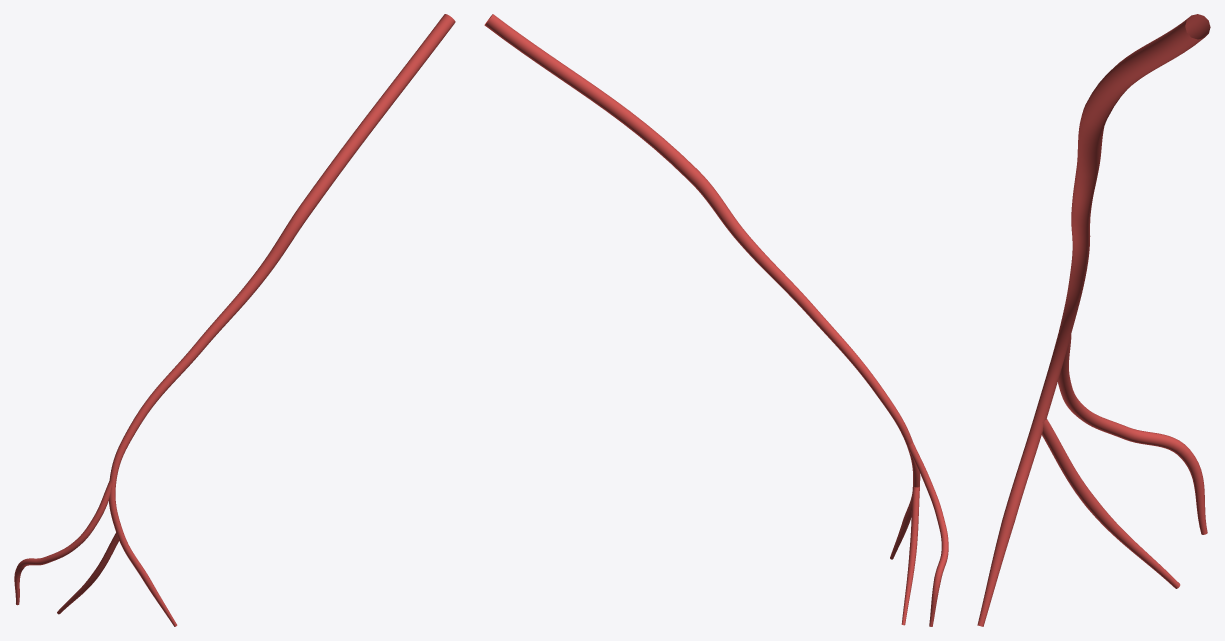
3 views of the same model, side by side, from view 1: azimuth 30°, elevation 25°; view 2: azimuth 150°, elevation 25°; view 3: azimuth 270°, elevation 25° (orthographic). The views are drawn at different scales.
Parts seen in each view (by area): view 1: 右侧泪腺动脉; view 2: 右侧泪腺动脉; view 3: 右侧泪腺动脉.
Part boxes in pixels (box(x1,y1,x2,y2)): 右侧泪腺动脉: box(14, 14, 455, 626); 右侧泪腺动脉: box(484, 14, 948, 626); 右侧泪腺动脉: box(977, 14, 1210, 626).
Size of the model in its own units: 0.0428 by 0.0466 by 0.0106.
